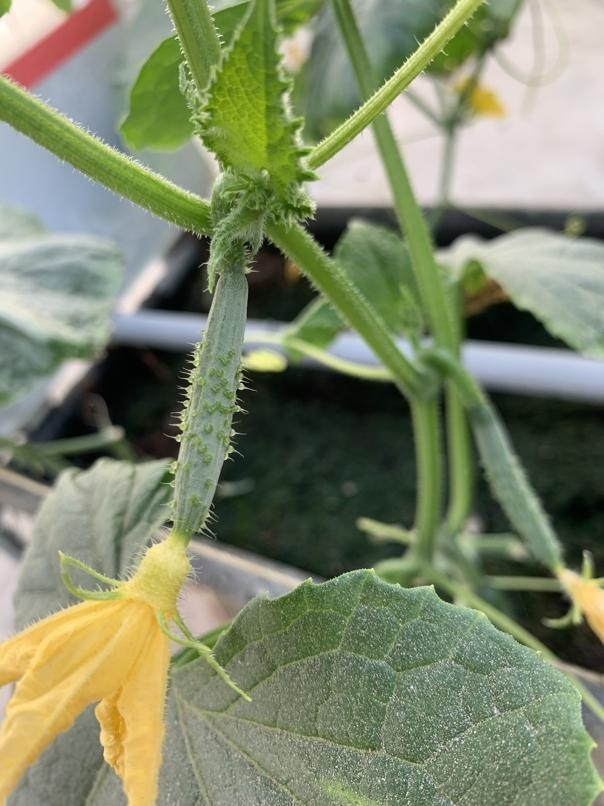bear: (1, 235, 302, 766)
